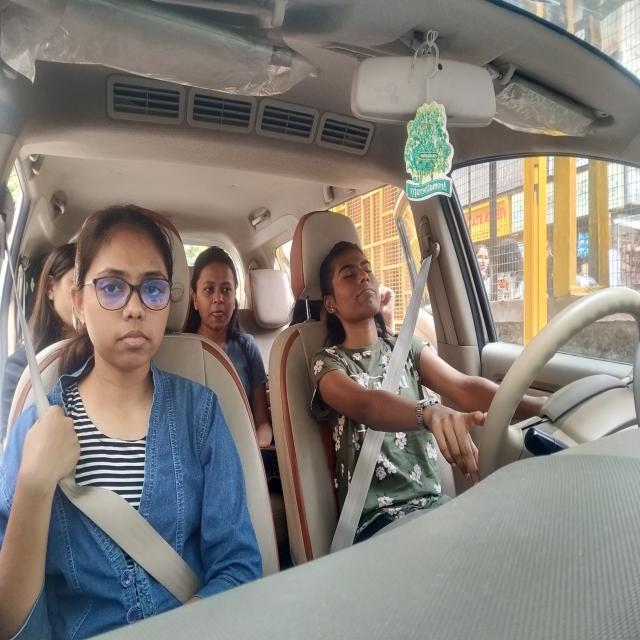drowsy: (317, 242, 385, 332)
person: (71, 202, 173, 376), (34, 239, 81, 339), (193, 244, 238, 338)
